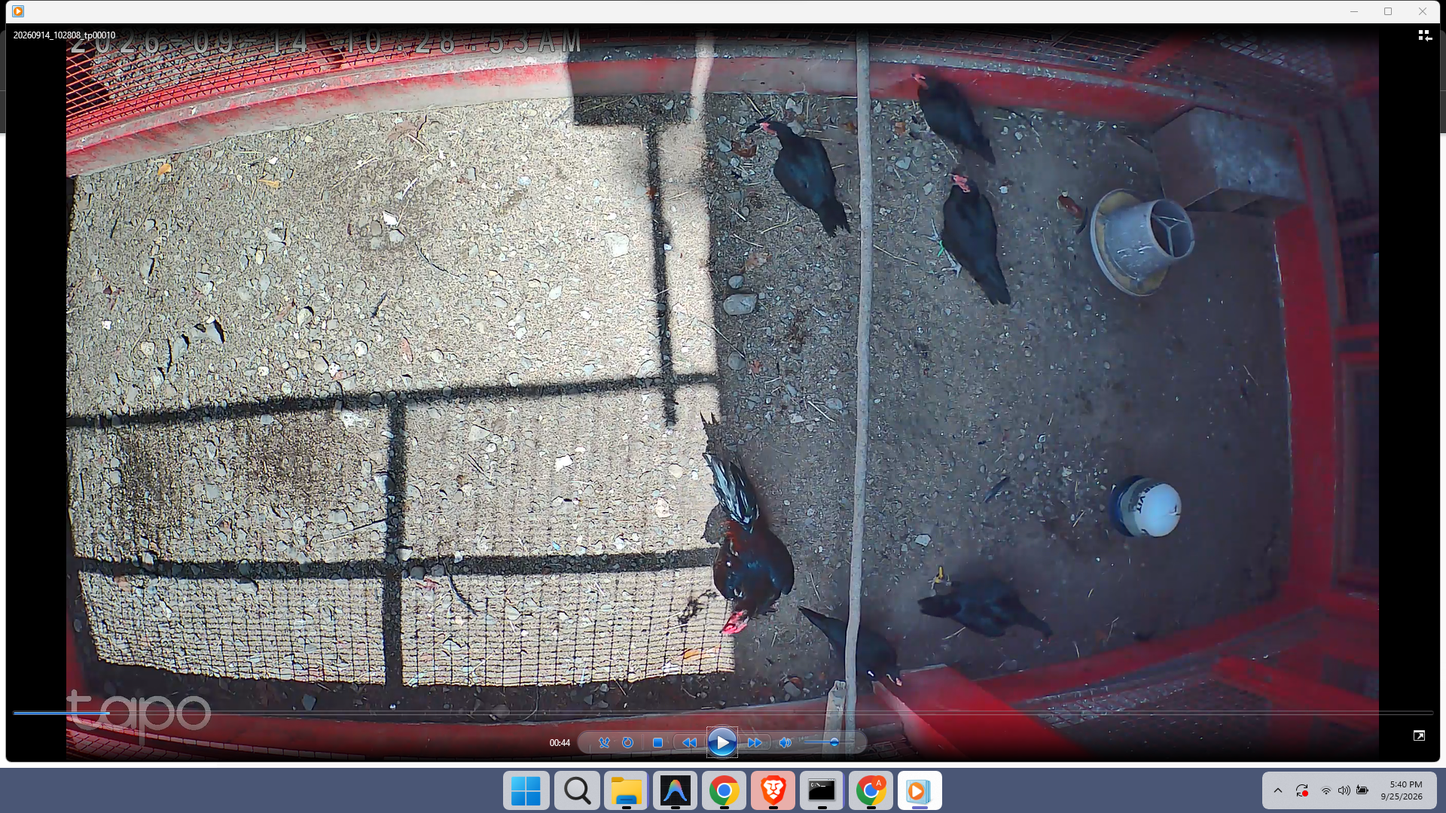Chicken: (920, 173, 1018, 312), (758, 120, 852, 237), (794, 603, 912, 691), (898, 71, 998, 169), (914, 581, 1058, 649)
Drinker: (1107, 476, 1186, 540)
Feeder: (1087, 187, 1198, 297)
Leg_Band_Green: (935, 238, 945, 258)
Leg_Band_Violet: (924, 128, 936, 138)
Leg_Band_Yellow: (935, 563, 944, 585)
Rooster: (700, 452, 795, 638)
